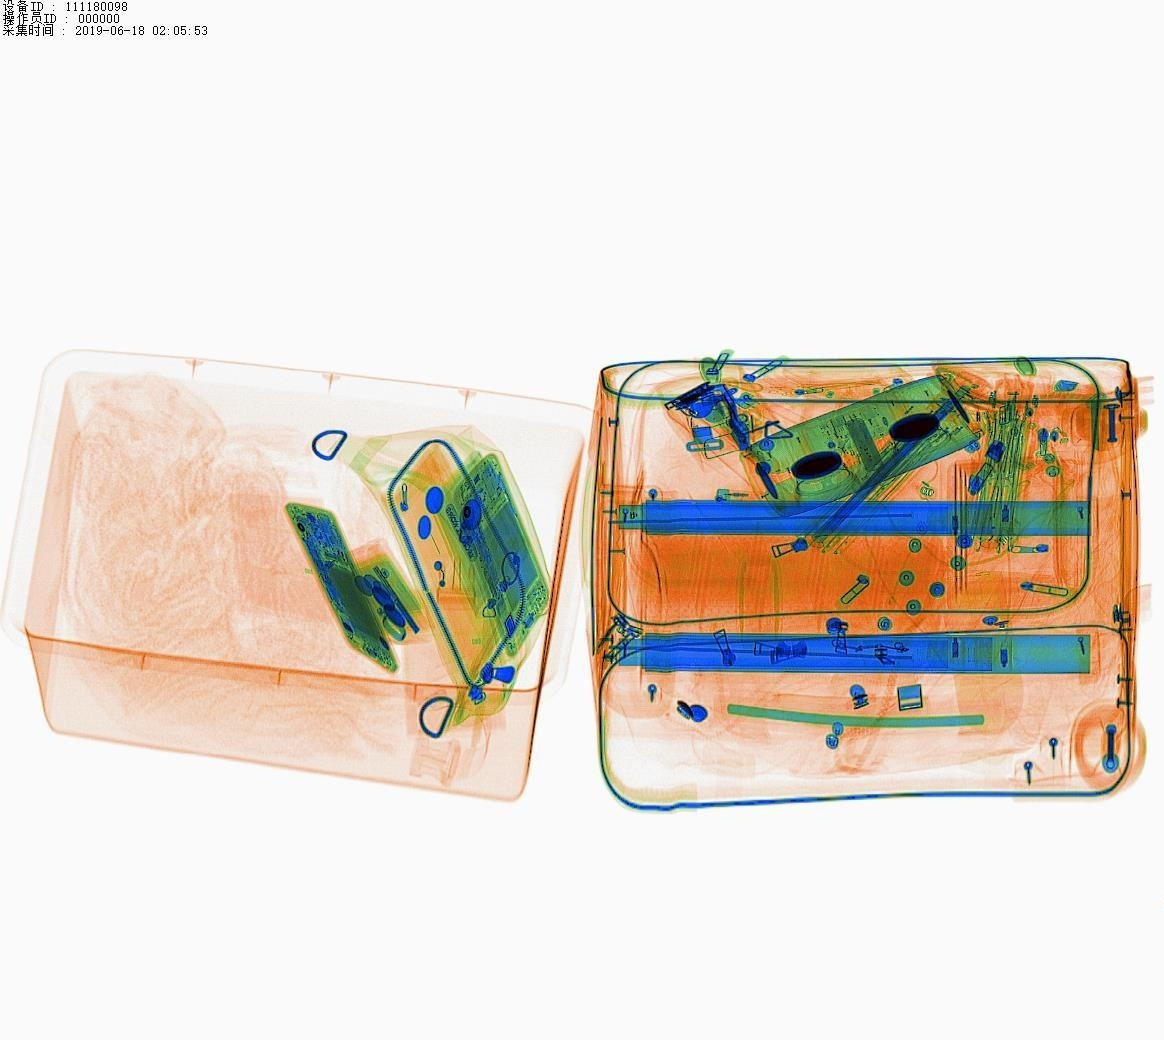NonmetallicFire: (712, 477, 807, 530)
